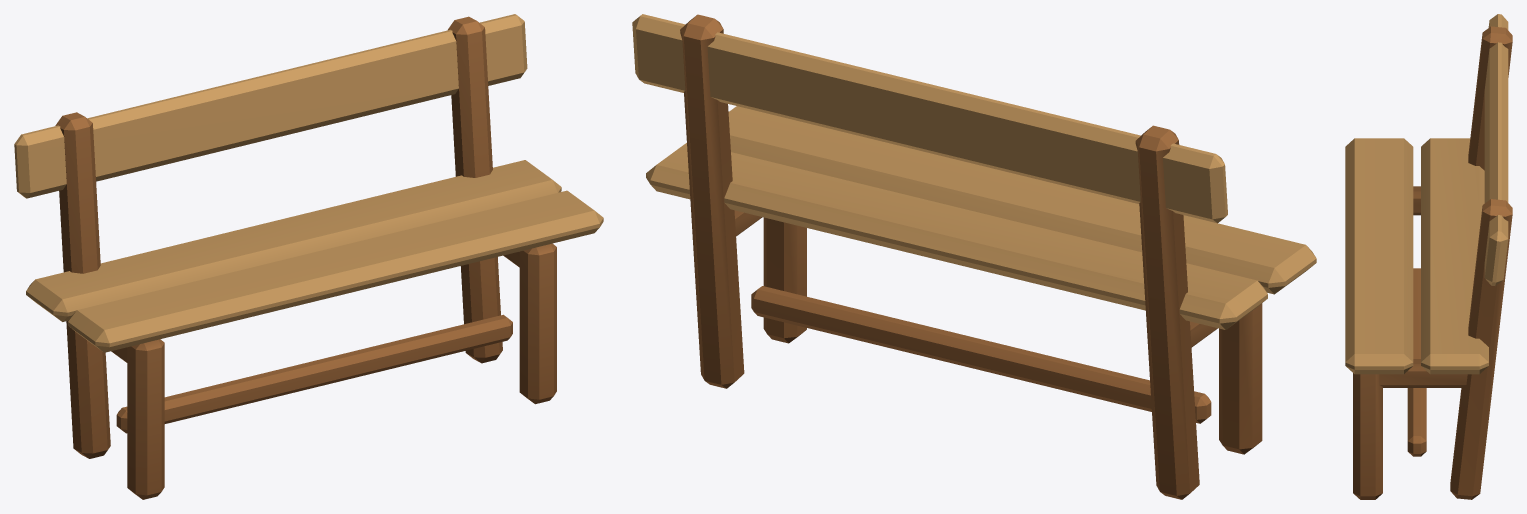
Rendered from bangku.glb.
The picture shows the model from 3 angles, left to right: view 1: azimuth 30°, elevation 25°; view 2: azimuth 150°, elevation 25°; view 3: azimuth 270°, elevation 25°; orthographic projection. The views are drawn at different scales.
Parts seen in each view (by area): view 1: bangku_mesh; view 2: bangku_mesh; view 3: bangku_mesh.
Part boxes in pixels (bbox=[...]): bangku_mesh: bbox=[14, 14, 603, 499]; bangku_mesh: bbox=[632, 14, 1316, 499]; bangku_mesh: bbox=[1345, 14, 1512, 499].
Size of the model in its own units: 1.4 by 0.8597 by 0.4426.
